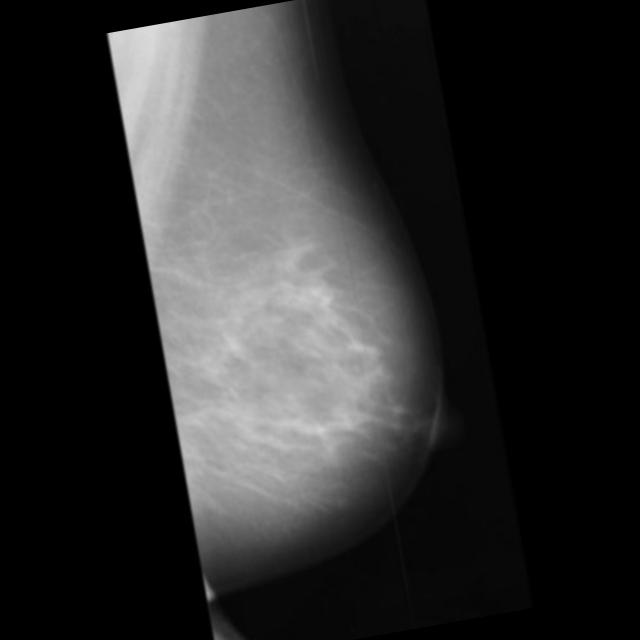CALC: (310, 282, 334, 306)
